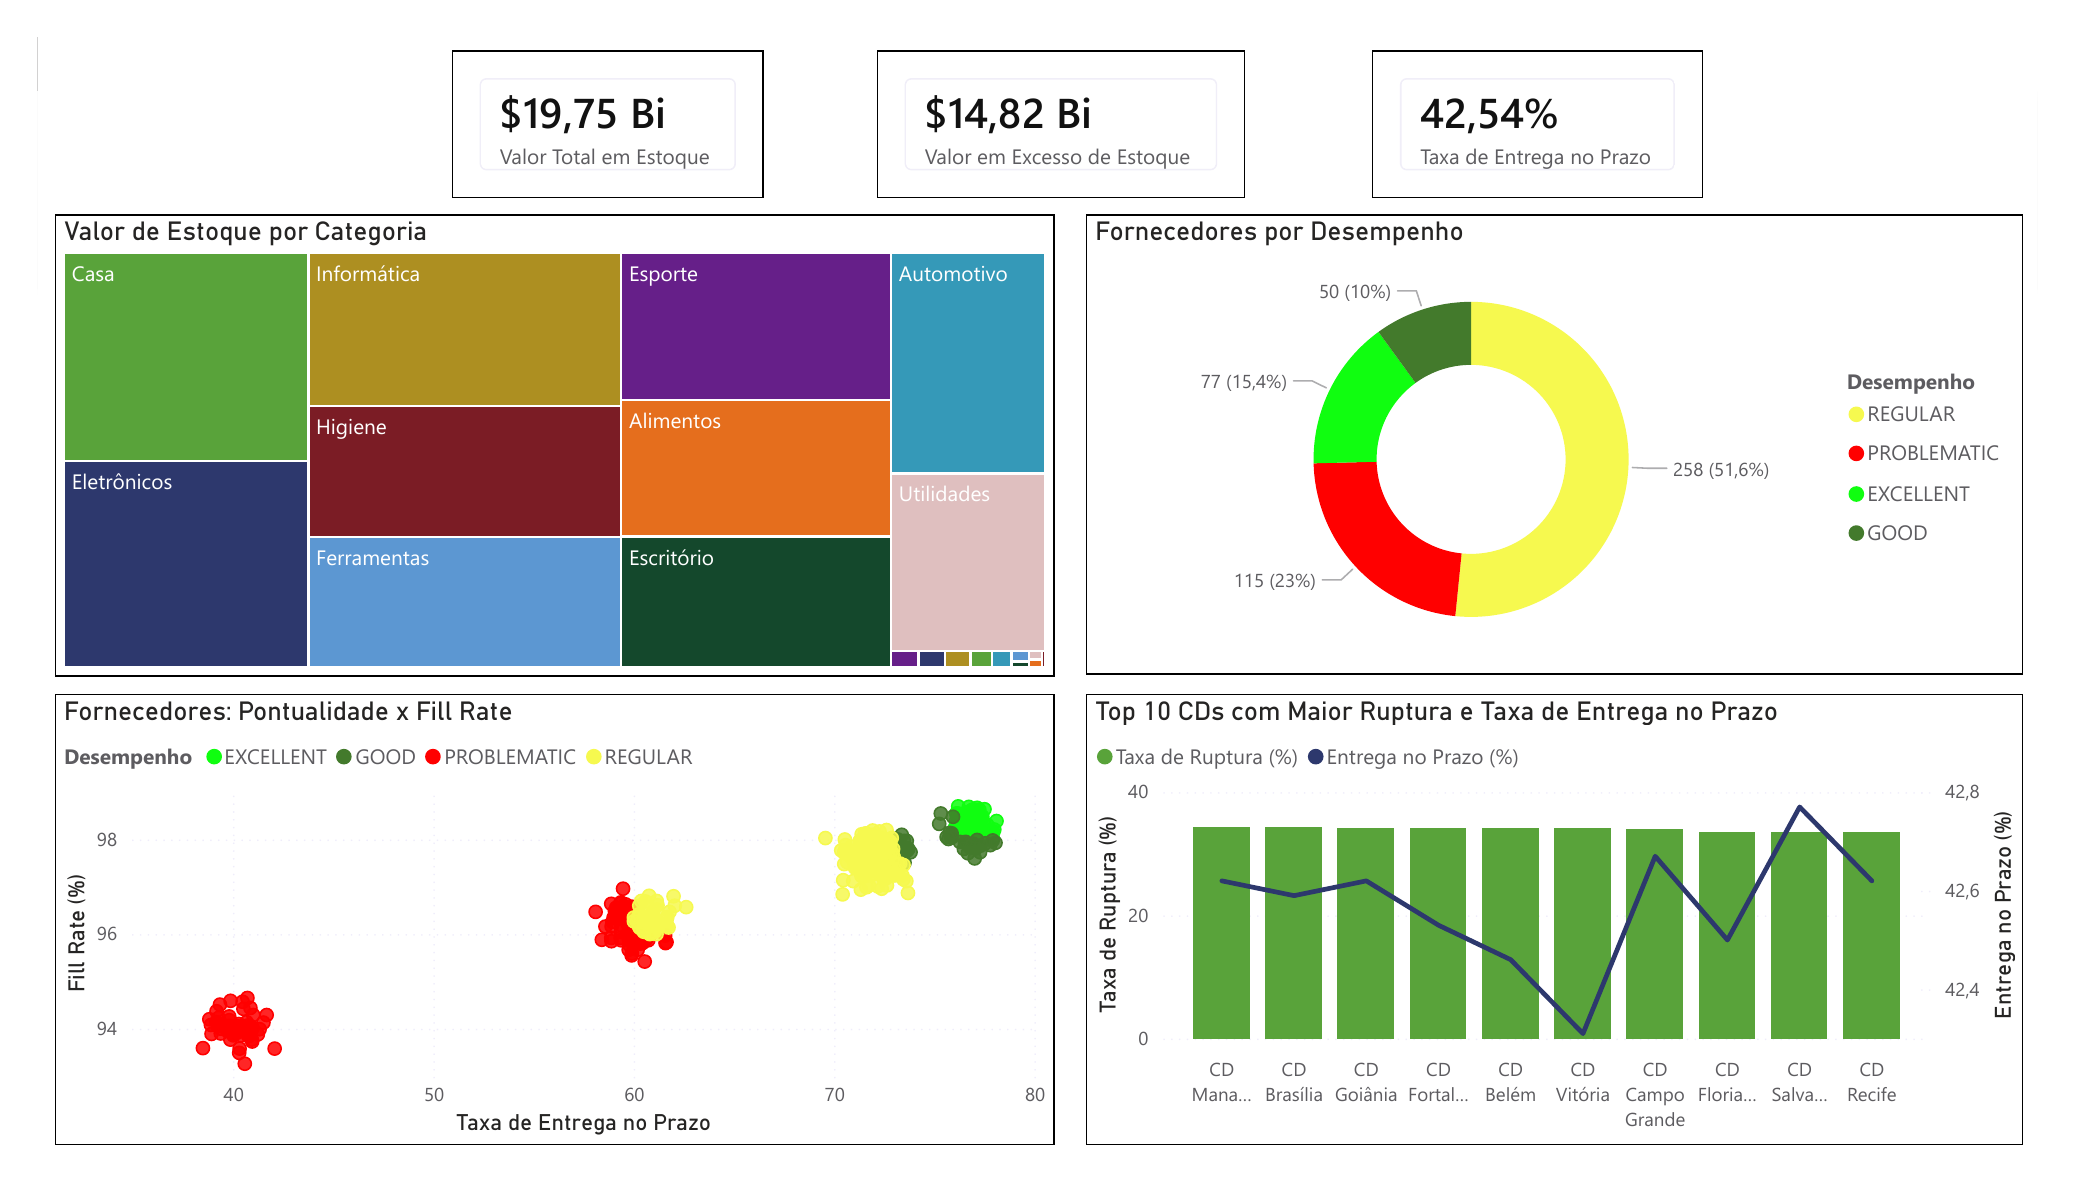

The dashboard page shown, as its layout file describes it:
{"tool":"powerbi","page":{"name":"Visão Executiva","canvas":[1280,720],"ordinal":0},"visuals":[{"type":"cardVisual","fields":{"Data":["inventory_analysis.Valor Total em Estoque"]},"box":[264.5,8.2,200.9,94.5],"z":0},{"type":"cardVisual","fields":{"Data":["inventory_analysis.Valor em Excesso de Estoque"]},"box":[537.3,8.2,235.5,94.5],"z":1000},{"type":"cardVisual","fields":{"Data":["inventory_analysis.Taxa de Entrega no Prazo"]},"box":[853.6,8.2,212.7,94.5],"z":2000},{"type":"treemap","title":"Valor de Estoque por Categoria","fields":{"Group":["inventory_analysis.category"],"Values":["inventory_analysis.Valor Total em Estoque"]},"box":[10.9,112.7,640,296.4],"z":3000},{"type":"lineClusteredColumnComboChart","title":"Top 10 CDs com Maior Ruptura e Taxa de Entrega no Prazo","fields":{"Category":["warehouse_performance.warehouse_name"],"Y":["Avg(warehouse_performance.stockout_rate_pct)"],"Y2":["Avg(warehouse_performance.on_time_delivery_rate_pct)"]},"box":[671,420,600,289],"z":4000},{"type":"donutChart","title":"Fornecedores por Desempenho","fields":{"Category":["supplier_performance.performance_class"],"Y":["CountNonNull(supplier_performance.supplier_id)"]},"box":[671,113,600,295],"z":5000},{"type":"scatterChart","title":"Fornecedores: Pontualidade x Fill Rate","fields":{"Category":["supplier_performance.supplier_name"],"X":["Avg(supplier_performance.on_time_delivery_rate_pct)"],"Y":["Avg(supplier_performance.fill_rate_pct)"],"Series":["supplier_performance.performance_class"]},"box":[11,420,640,289],"z":6000}]}

Visuals, with their boxes in screenshot pixels (x1, y1, x2, y2):
cardVisual - inventory_analysis.Valor Total em Estoque: <bbox>451, 50, 761, 196</bbox>
cardVisual - inventory_analysis.Valor em Excesso de Estoque: <bbox>872, 50, 1235, 196</bbox>
cardVisual - inventory_analysis.Taxa de Entrega no Prazo: <bbox>1359, 50, 1687, 196</bbox>
"Valor de Estoque por Categoria" treemap: <bbox>60, 212, 1047, 669</bbox>
"Top 10 CDs com Maior Ruptura e Taxa de Entrega no Prazo" lineClusteredColumnComboChart: <bbox>1078, 685, 2003, 1131</bbox>
"Fornecedores por Desempenho" donutChart: <bbox>1078, 212, 2003, 667</bbox>
"Fornecedores: Pontualidade x Fill Rate" scatterChart: <bbox>60, 685, 1047, 1131</bbox>
